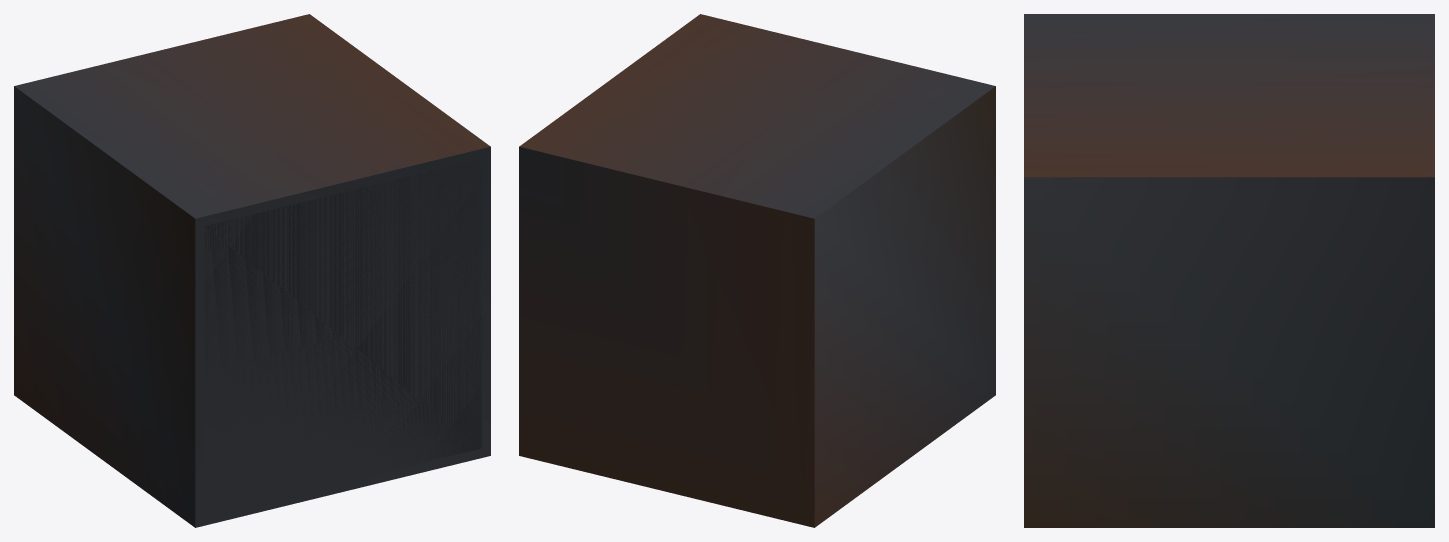
File: tile_hull.glb
3 renders of one model, left to right at view 1: azimuth 30°, elevation 25°; view 2: azimuth 150°, elevation 25°; view 3: azimuth 270°, elevation 25°, orthographic. The views are drawn at different scales.
Visible parts, largest first — view 1: tile_hull; view 2: tile_hull; view 3: tile_hull.
Boxes of the visible parts, left/top/right/bottom form: tile_hull: left=14, top=14, right=490, bottom=527; tile_hull: left=519, top=14, right=995, bottom=527; tile_hull: left=1024, top=14, right=1434, bottom=527.
Bounding box in the file's own units: 32 × 32 × 34.
